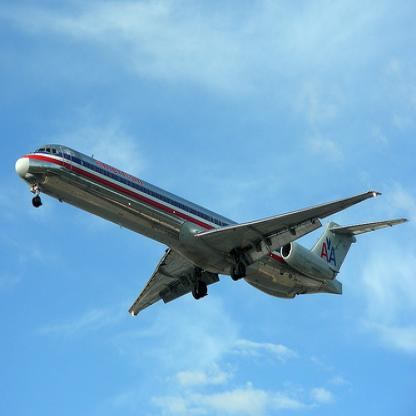aeroplane: (13, 142, 408, 319)
